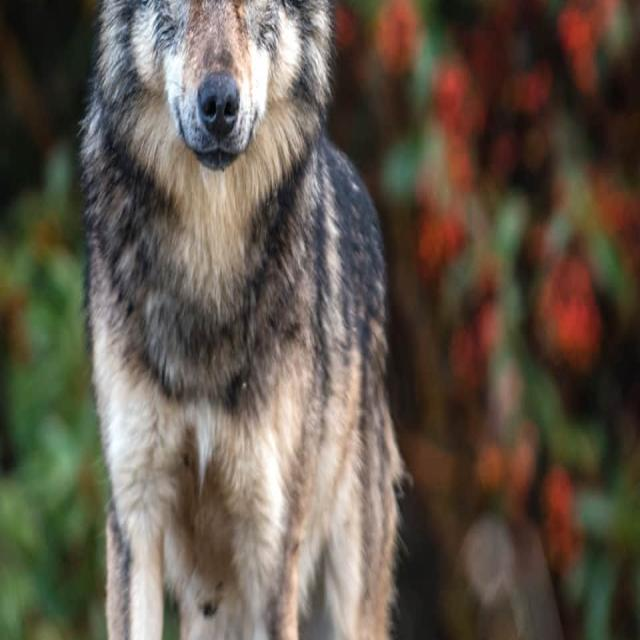wolf: (29, 0, 420, 640)
